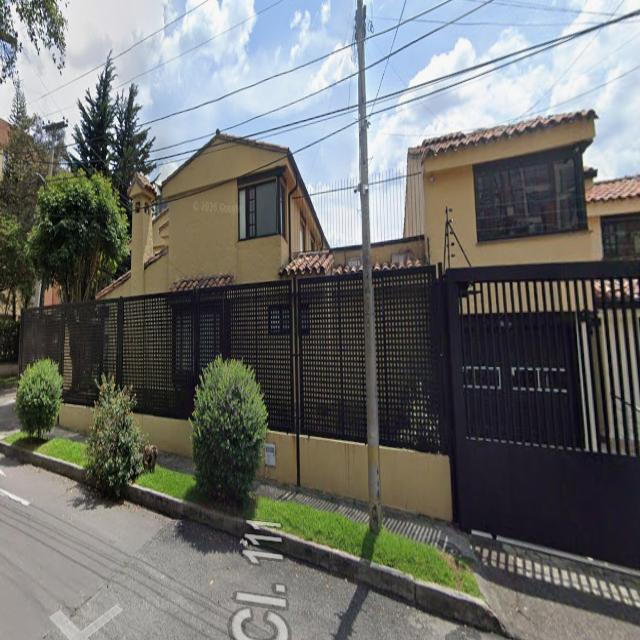fachada: (20, 135, 370, 499), (97, 134, 361, 299), (372, 111, 639, 269), (405, 111, 639, 266), (586, 171, 639, 259), (0, 118, 11, 188), (0, 118, 11, 175)
poste: (356, 0, 382, 533), (44, 120, 67, 178)
